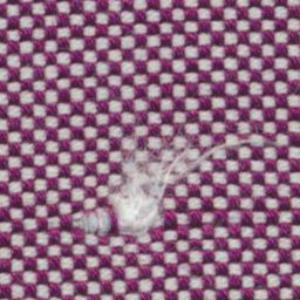fault: (65, 117, 257, 236)
